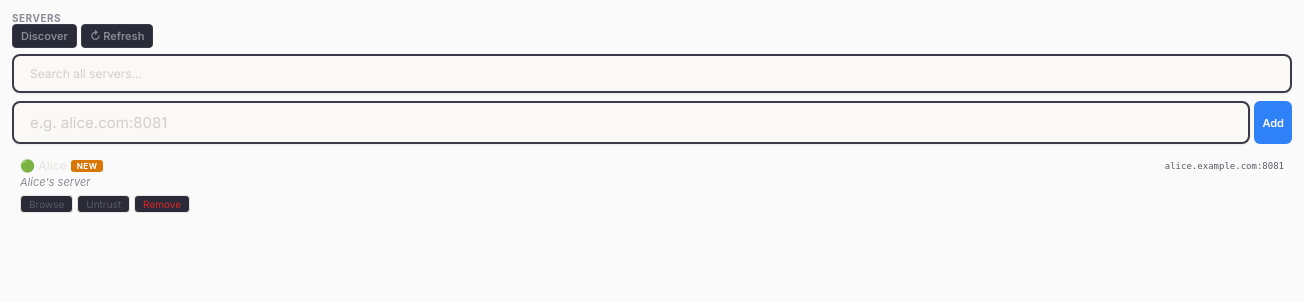
Scenario: ServerDirectoryPanel › shows empty state when remote has no works
Click the button "Browse".
click(47, 204)  # box [20, 195, 73, 213]
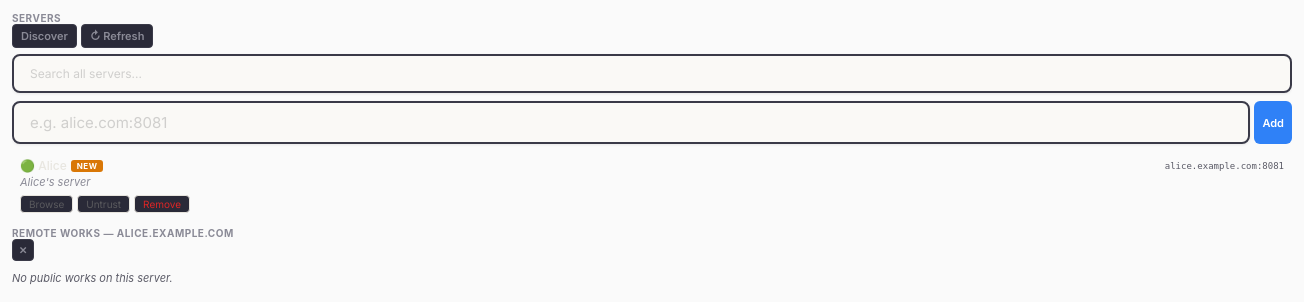
Expected: the text "No public works on this server." is shown, [12, 271, 173, 285]
